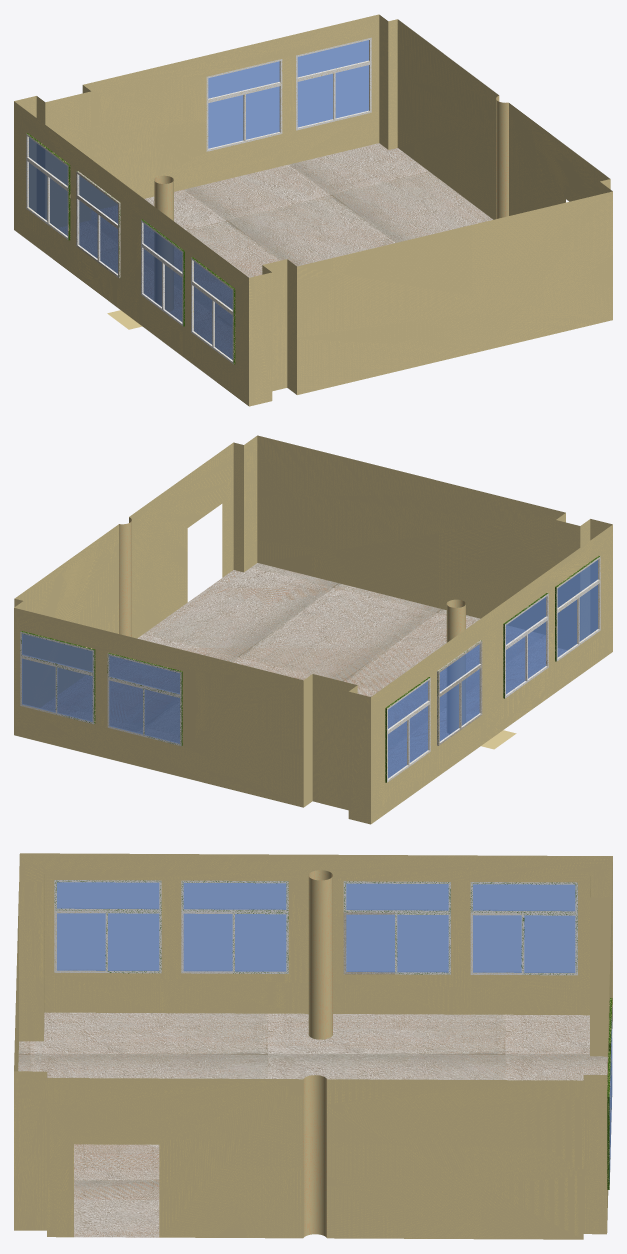
File: AUL018.obj
The picture shows the model from 3 angles, top to bottom: view 1: azimuth 30°, elevation 25°; view 2: azimuth 150°, elevation 25°; view 3: azimuth 270°, elevation 25°; orthographic projection. The views are drawn at different scales.
Parts seen in each view (by area): view 1: Mesh37 AUL018 Model, Mesh19 ventana1_1_4 AUL018 Model, Mesh25 ventana1_1_5 AUL018 Model, Mesh7 ventana1_1_2 AUL018 Model, Mesh13 ventana1_1_3 AUL018 Model, Mesh1 ventana1_1_1 AUL018 Model, Mesh31 ventana1_1_6 AUL018 Model; view 2: Mesh37 AUL018 Model, Mesh25 ventana1_1_5 AUL018 Model, Mesh19 ventana1_1_4 AUL018 Model, Mesh31 ventana1_1_6 AUL018 Model, Mesh7 ventana1_1_2 AUL018 Model, Mesh13 ventana1_1_3 AUL018 Model, Mesh1 ventana1_1_1 AUL018 Model; view 3: Mesh37 AUL018 Model, Mesh1 ventana1_1_1 AUL018 Model, Mesh31 ventana1_1_6 AUL018 Model, Mesh13 ventana1_1_3 AUL018 Model, Mesh7 ventana1_1_2 AUL018 Model.
Boxes of the visible parts, x1,y1,x2,y2 form: Mesh37 AUL018 Model: (14, 14, 612, 406); Mesh19 ventana1_1_4 AUL018 Model: (206, 59, 282, 151); Mesh25 ventana1_1_5 AUL018 Model: (296, 37, 371, 130); Mesh7 ventana1_1_2 AUL018 Model: (26, 133, 70, 240); Mesh13 ventana1_1_3 AUL018 Model: (191, 257, 235, 364); Mesh1 ventana1_1_1 AUL018 Model: (76, 171, 120, 278); Mesh31 ventana1_1_6 AUL018 Model: (141, 219, 184, 326); Mesh37 AUL018 Model: (14, 435, 612, 824); Mesh25 ventana1_1_5 AUL018 Model: (20, 631, 95, 724); Mesh19 ventana1_1_4 AUL018 Model: (107, 653, 182, 746); Mesh31 ventana1_1_6 AUL018 Model: (503, 592, 548, 698); Mesh7 ventana1_1_2 AUL018 Model: (385, 677, 430, 782); Mesh13 ventana1_1_3 AUL018 Model: (555, 556, 600, 661); Mesh1 ventana1_1_1 AUL018 Model: (437, 640, 482, 745); Mesh37 AUL018 Model: (14, 853, 612, 1239); Mesh1 ventana1_1_1 AUL018 Model: (343, 881, 450, 974); Mesh31 ventana1_1_6 AUL018 Model: (181, 880, 288, 973); Mesh13 ventana1_1_3 AUL018 Model: (54, 880, 161, 973); Mesh7 ventana1_1_2 AUL018 Model: (470, 882, 577, 975).
Size of the model in its own units: 11.36 by 3.6 by 12.28.
Materials: 10 (3 with a texture image).
